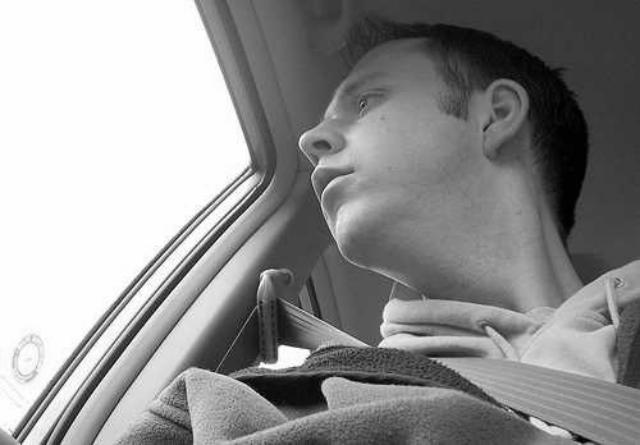SafeDriving: (348, 80, 393, 118)
Seatbelt: (252, 265, 640, 445)
